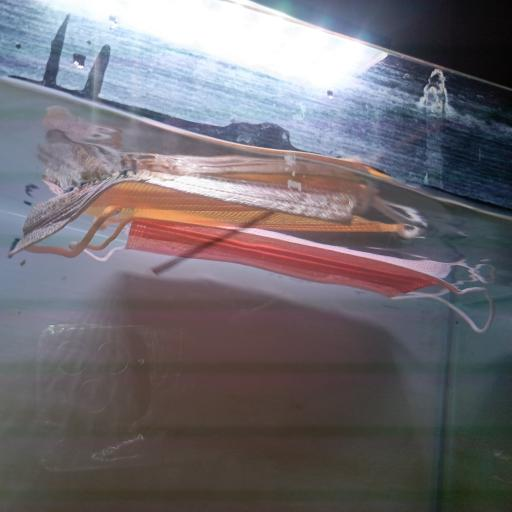mask: (98, 212, 500, 333), (16, 176, 428, 253)
